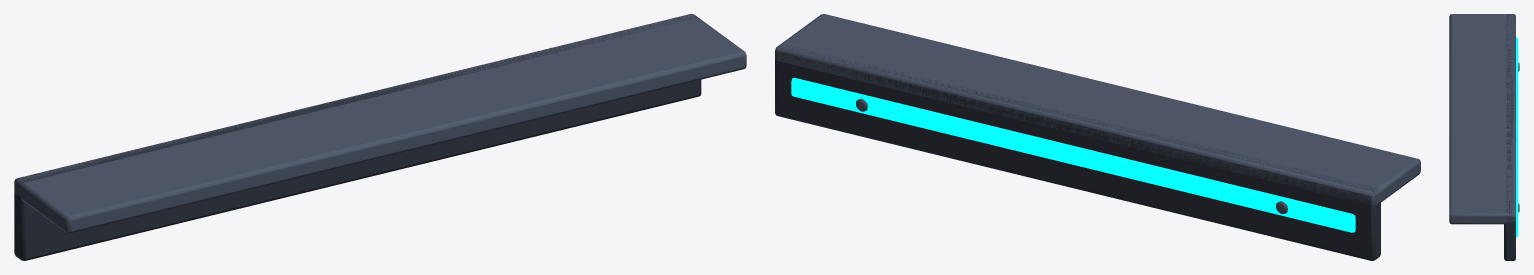
The model's file is edge_trim.glb.
The picture shows the model from 3 angles, left to right: view 1: azimuth 30°, elevation 25°; view 2: azimuth 150°, elevation 25°; view 3: azimuth 270°, elevation 25°; orthographic projection. The views are drawn at different scales.
Visible parts, largest first — view 1: edge_trim; view 2: edge_trim; view 3: edge_trim.
Boxes of the visible parts, bbox=[...] form: edge_trim: bbox=[14, 14, 746, 260]; edge_trim: bbox=[775, 14, 1420, 260]; edge_trim: bbox=[1449, 14, 1519, 260].
Size of the model in its own units: 2 by 0.22 by 0.295.
